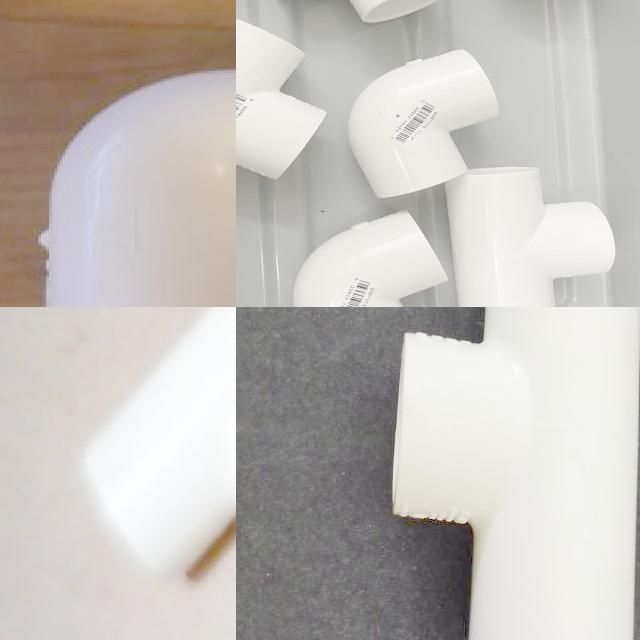L Joint: (45, 70, 236, 307), (346, 50, 496, 200), (292, 210, 448, 307)
T Joint: (391, 307, 640, 640), (76, 307, 236, 583), (445, 167, 617, 307), (236, 20, 326, 182)
